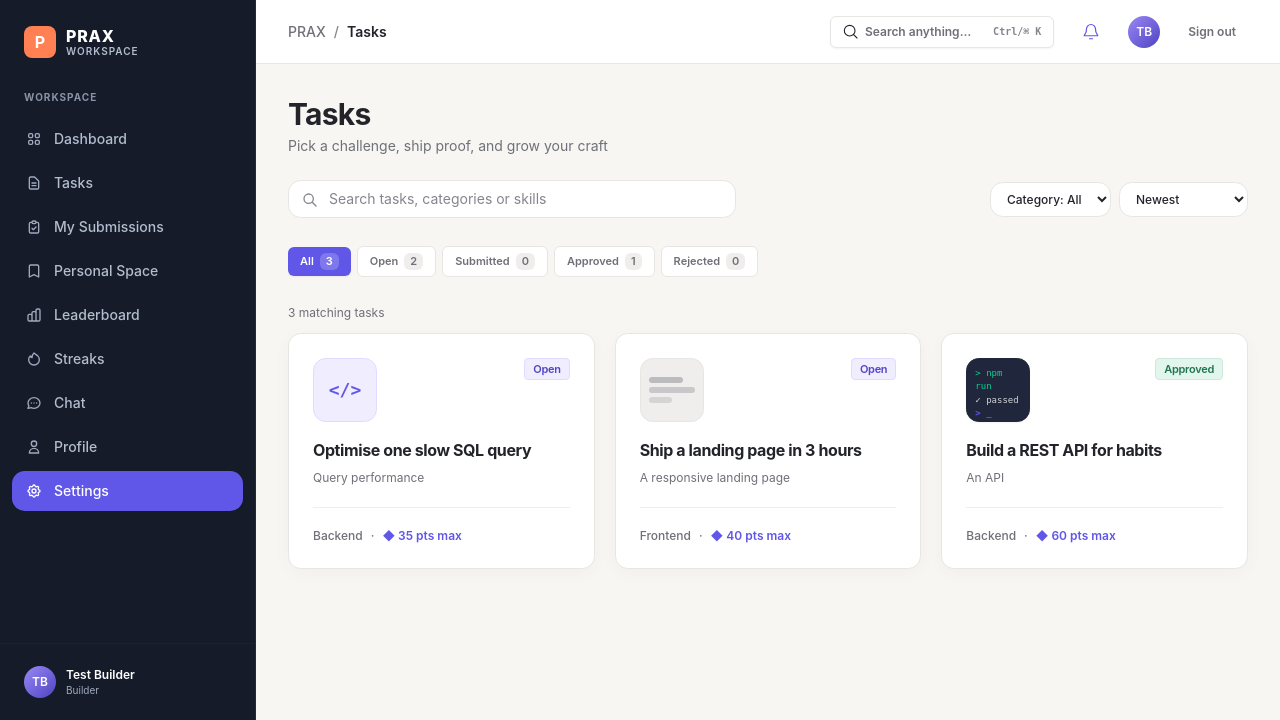
Test: functional member controls › updates task category, status, sort and empty results through controls
The image size is (1280, 720).
Select "Backend" in the dropdown named "Task category" at (1050,199), box [990, 182, 1111, 216]
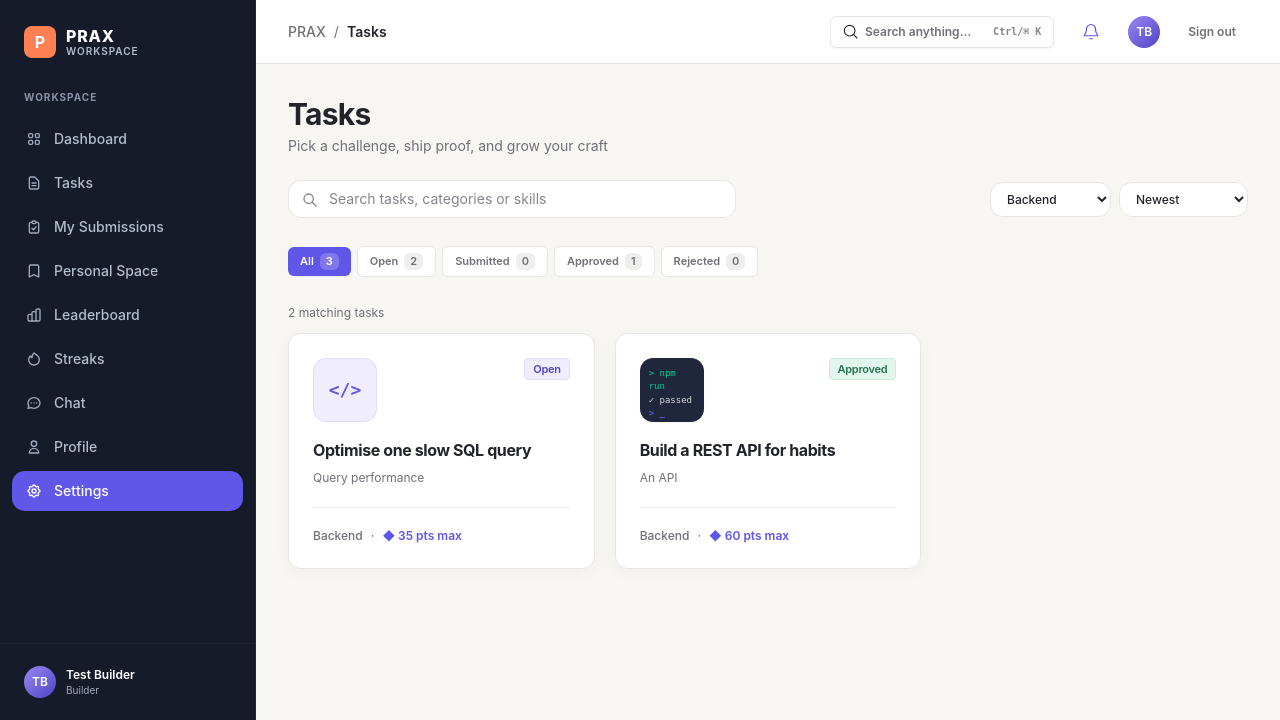
Click the tab "Approved 1" at (604,261), box [554, 246, 655, 276]
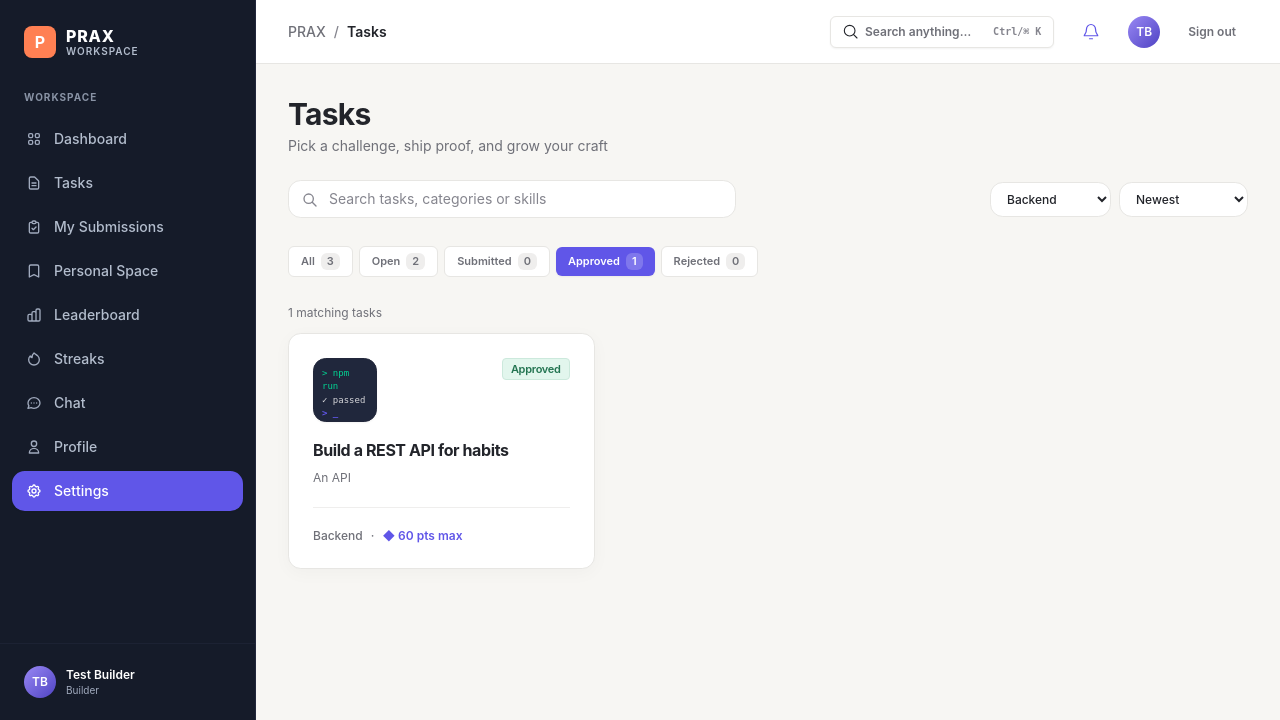
Expected: the heading "Build a REST API for habits" is shown, [313, 440, 508, 460]
Now the link "Optimise one slow SQL query" is gone
Type "absent" into the search field labelled "Search tasks" at (512,199), box [288, 180, 736, 218]
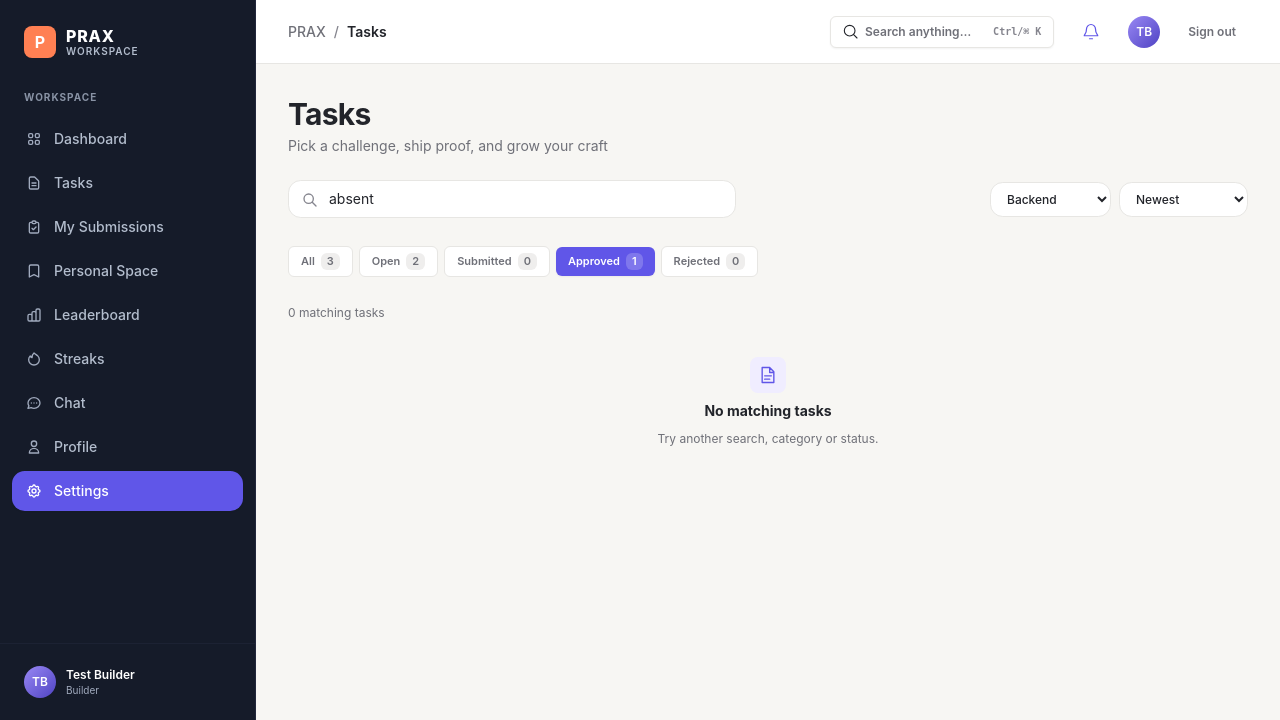
Now the heading "No matching tasks" is shown, box [704, 400, 832, 420]
